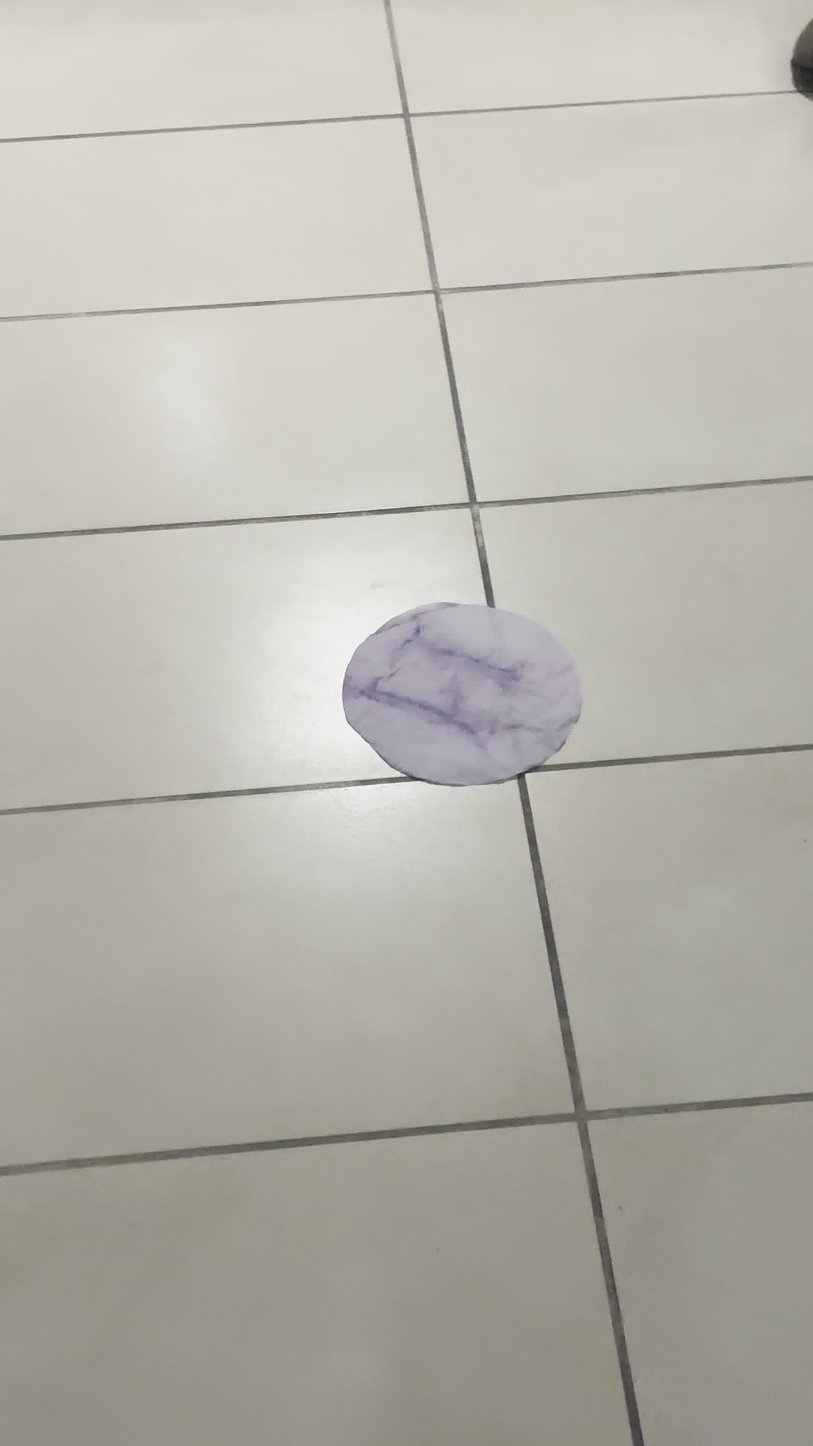Target: (341, 599, 580, 785)
